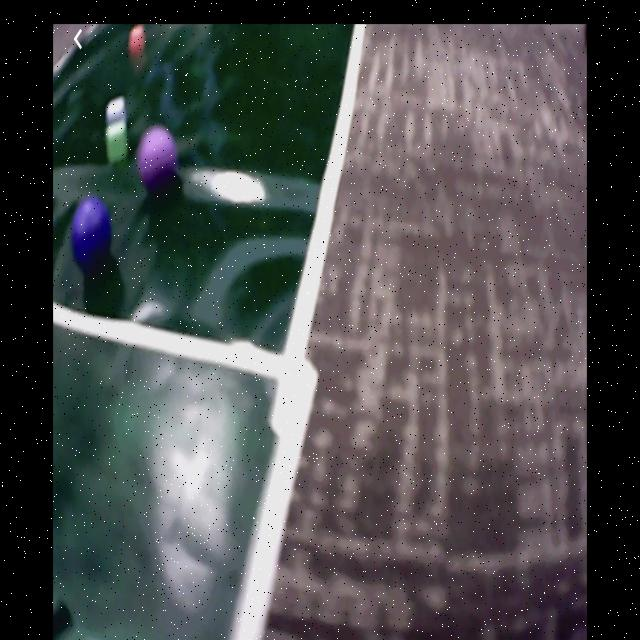ball: (73, 201, 109, 266), (139, 128, 178, 186)
